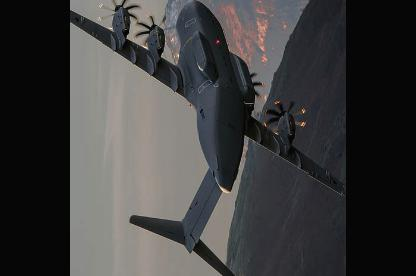A400M: (70, 0, 346, 273)
